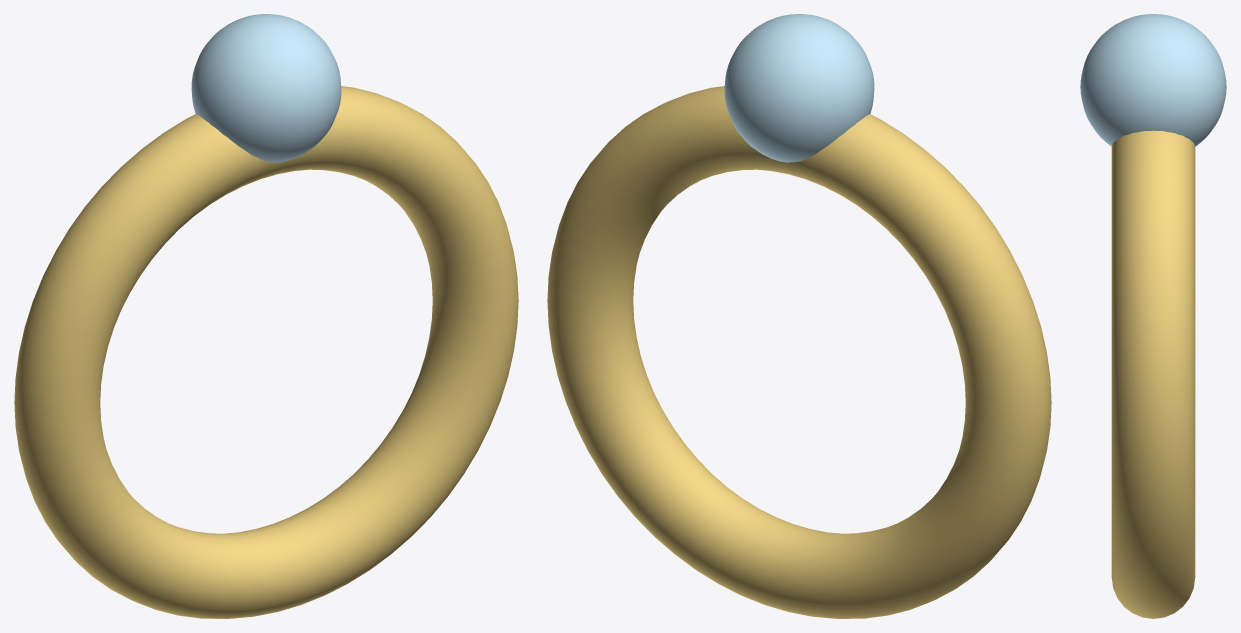
File: ring.glb
The picture shows the model from 3 angles, left to right: view 1: azimuth 30°, elevation 25°; view 2: azimuth 150°, elevation 25°; view 3: azimuth 270°, elevation 25°; orthographic projection. The views are drawn at different scales.
Visible parts, largest first — view 1: ring; view 2: ring; view 3: ring.
Part boxes in pixels (left/top/right/bottom): ring: left=14, top=14, right=518, bottom=618; ring: left=547, top=14, right=1051, bottom=618; ring: left=1080, top=14, right=1226, bottom=618.
Bounding box in the file's own units: 2.12 × 2.42 × 0.56.
